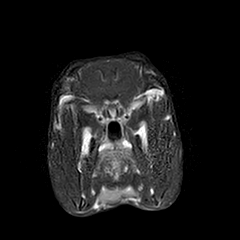Brain: (61, 27, 160, 125)
